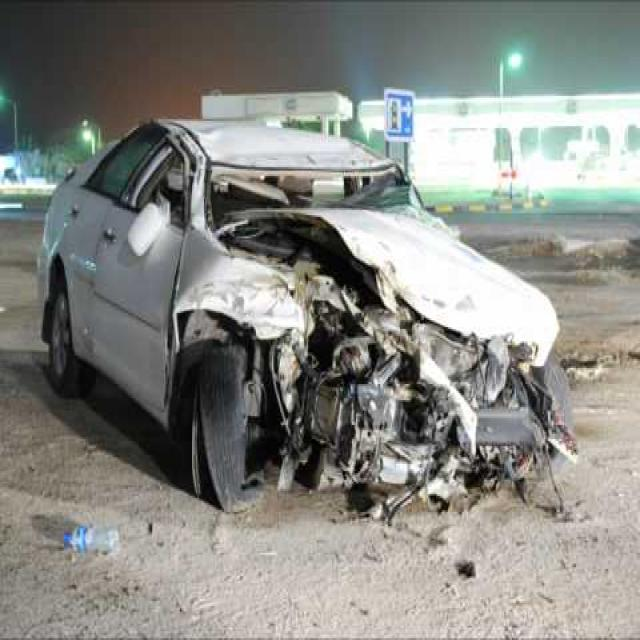crush: (113, 118, 579, 522)
